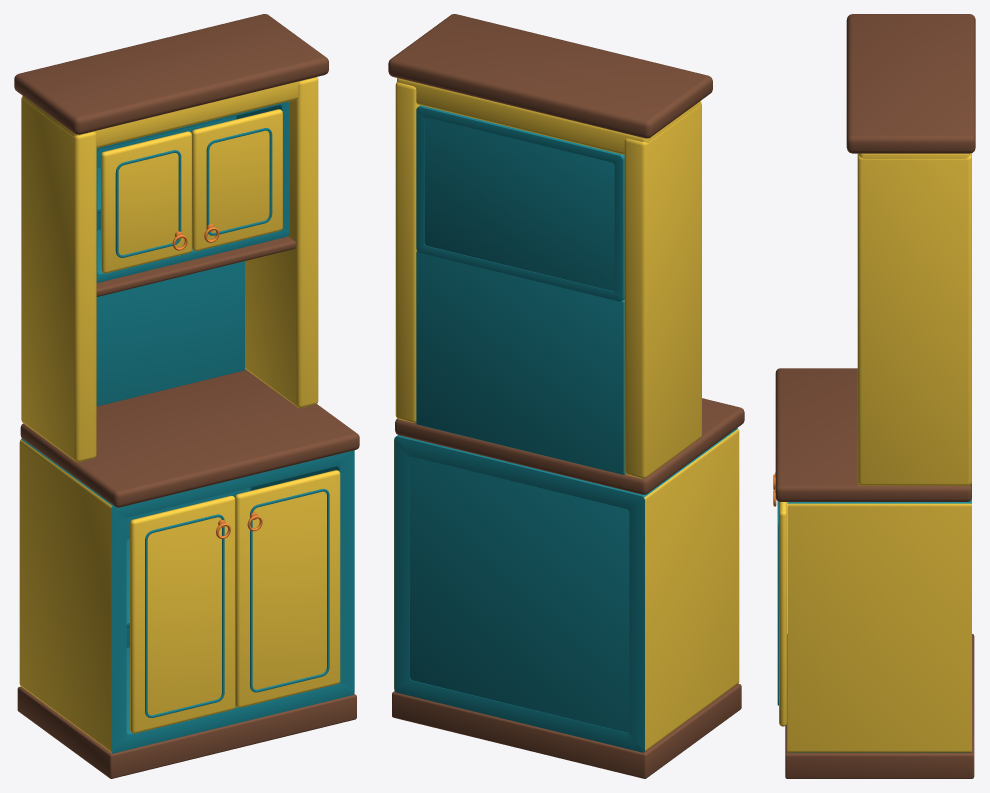
File: paneleiro_colonial.glb
3 renders of one model, left to right at view 1: azimuth 30°, elevation 25°; view 2: azimuth 150°, elevation 25°; view 3: azimuth 270°, elevation 25°, orthographic. The views are drawn at different scales.
Parts seen in each view (by area): view 1: paneleiro_colonial, porta_1, porta_2, porta_4, porta_3; view 2: paneleiro_colonial; view 3: paneleiro_colonial, porta_2.
Part boxes in pixels (x1,y1,x2,y2): paneleiro_colonial: (14,14,359,778); porta_1: (130,495,235,733); porta_2: (235,470,340,707); porta_4: (191,109,282,251); porta_3: (101,131,191,273); paneleiro_colonial: (388,14,744,778); paneleiro_colonial: (775,14,975,778); porta_2: (773,488,786,726).
Size of the model in its own units: 0.83 by 1.99 by 0.5652.
Materials: 1 (1 with a texture image).
